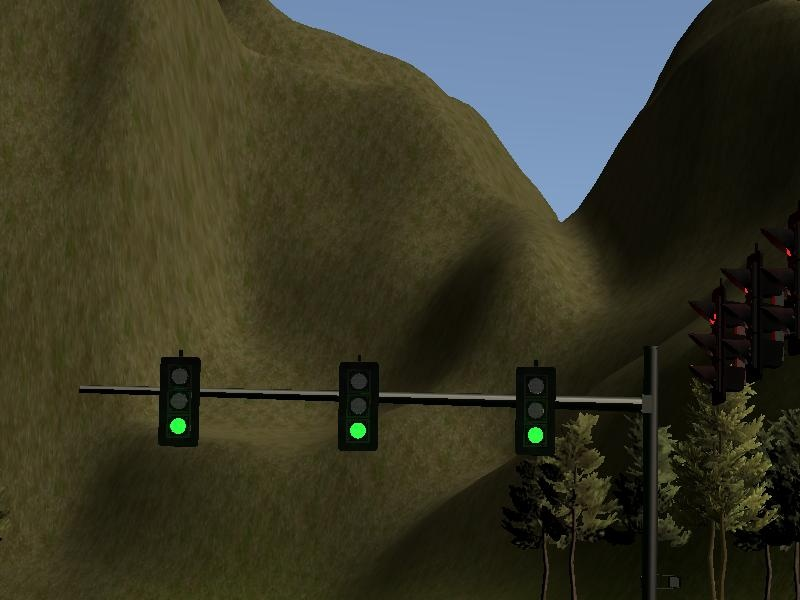traffic_light_green: (77, 356, 595, 456)
